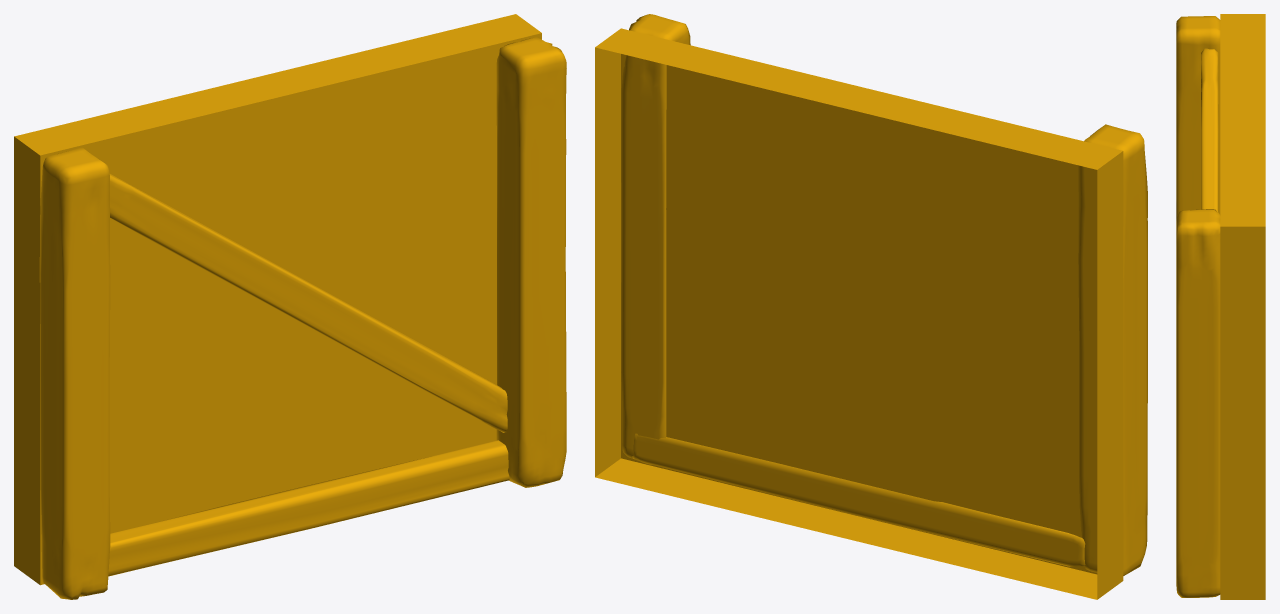
File: Var1Wall_Low.fbx
3 views of the same model, side by side, from view 1: azimuth 30°, elevation 25°; view 2: azimuth 150°, elevation 25°; view 3: azimuth 270°, elevation 25° (orthographic). The views are drawn at different scales.
Parts seen in each view (by area): view 1: WallFace_Low, WallLeft_Low, WallRight_Low, DownWood_Low, WallBottom_Low; view 2: WallFace_Low, WallLeft_Low, WallRight_Low, WallBottom_Low; view 3: WallFace_Low, WallRight_Low, WallLeft_Low, DownWood_Low.
Part boxes in pixels (x1,y1,x2,y2): WallFace_Low: [14, 14, 541, 585]; WallLeft_Low: [39, 147, 110, 599]; WallRight_Low: [496, 37, 566, 487]; DownWood_Low: [109, 174, 507, 432]; WallBottom_Low: [108, 440, 509, 576]; WallFace_Low: [595, 28, 1123, 599]; WallLeft_Low: [1078, 124, 1147, 575]; WallRight_Low: [621, 14, 690, 465]; WallBottom_Low: [632, 433, 1085, 566]; WallFace_Low: [1220, 14, 1265, 599]; WallRight_Low: [1176, 209, 1220, 597]; WallLeft_Low: [1176, 16, 1220, 220]; DownWood_Low: [1201, 48, 1218, 211].
Bounding box in the file's own units: 611 × 500 × 108.
